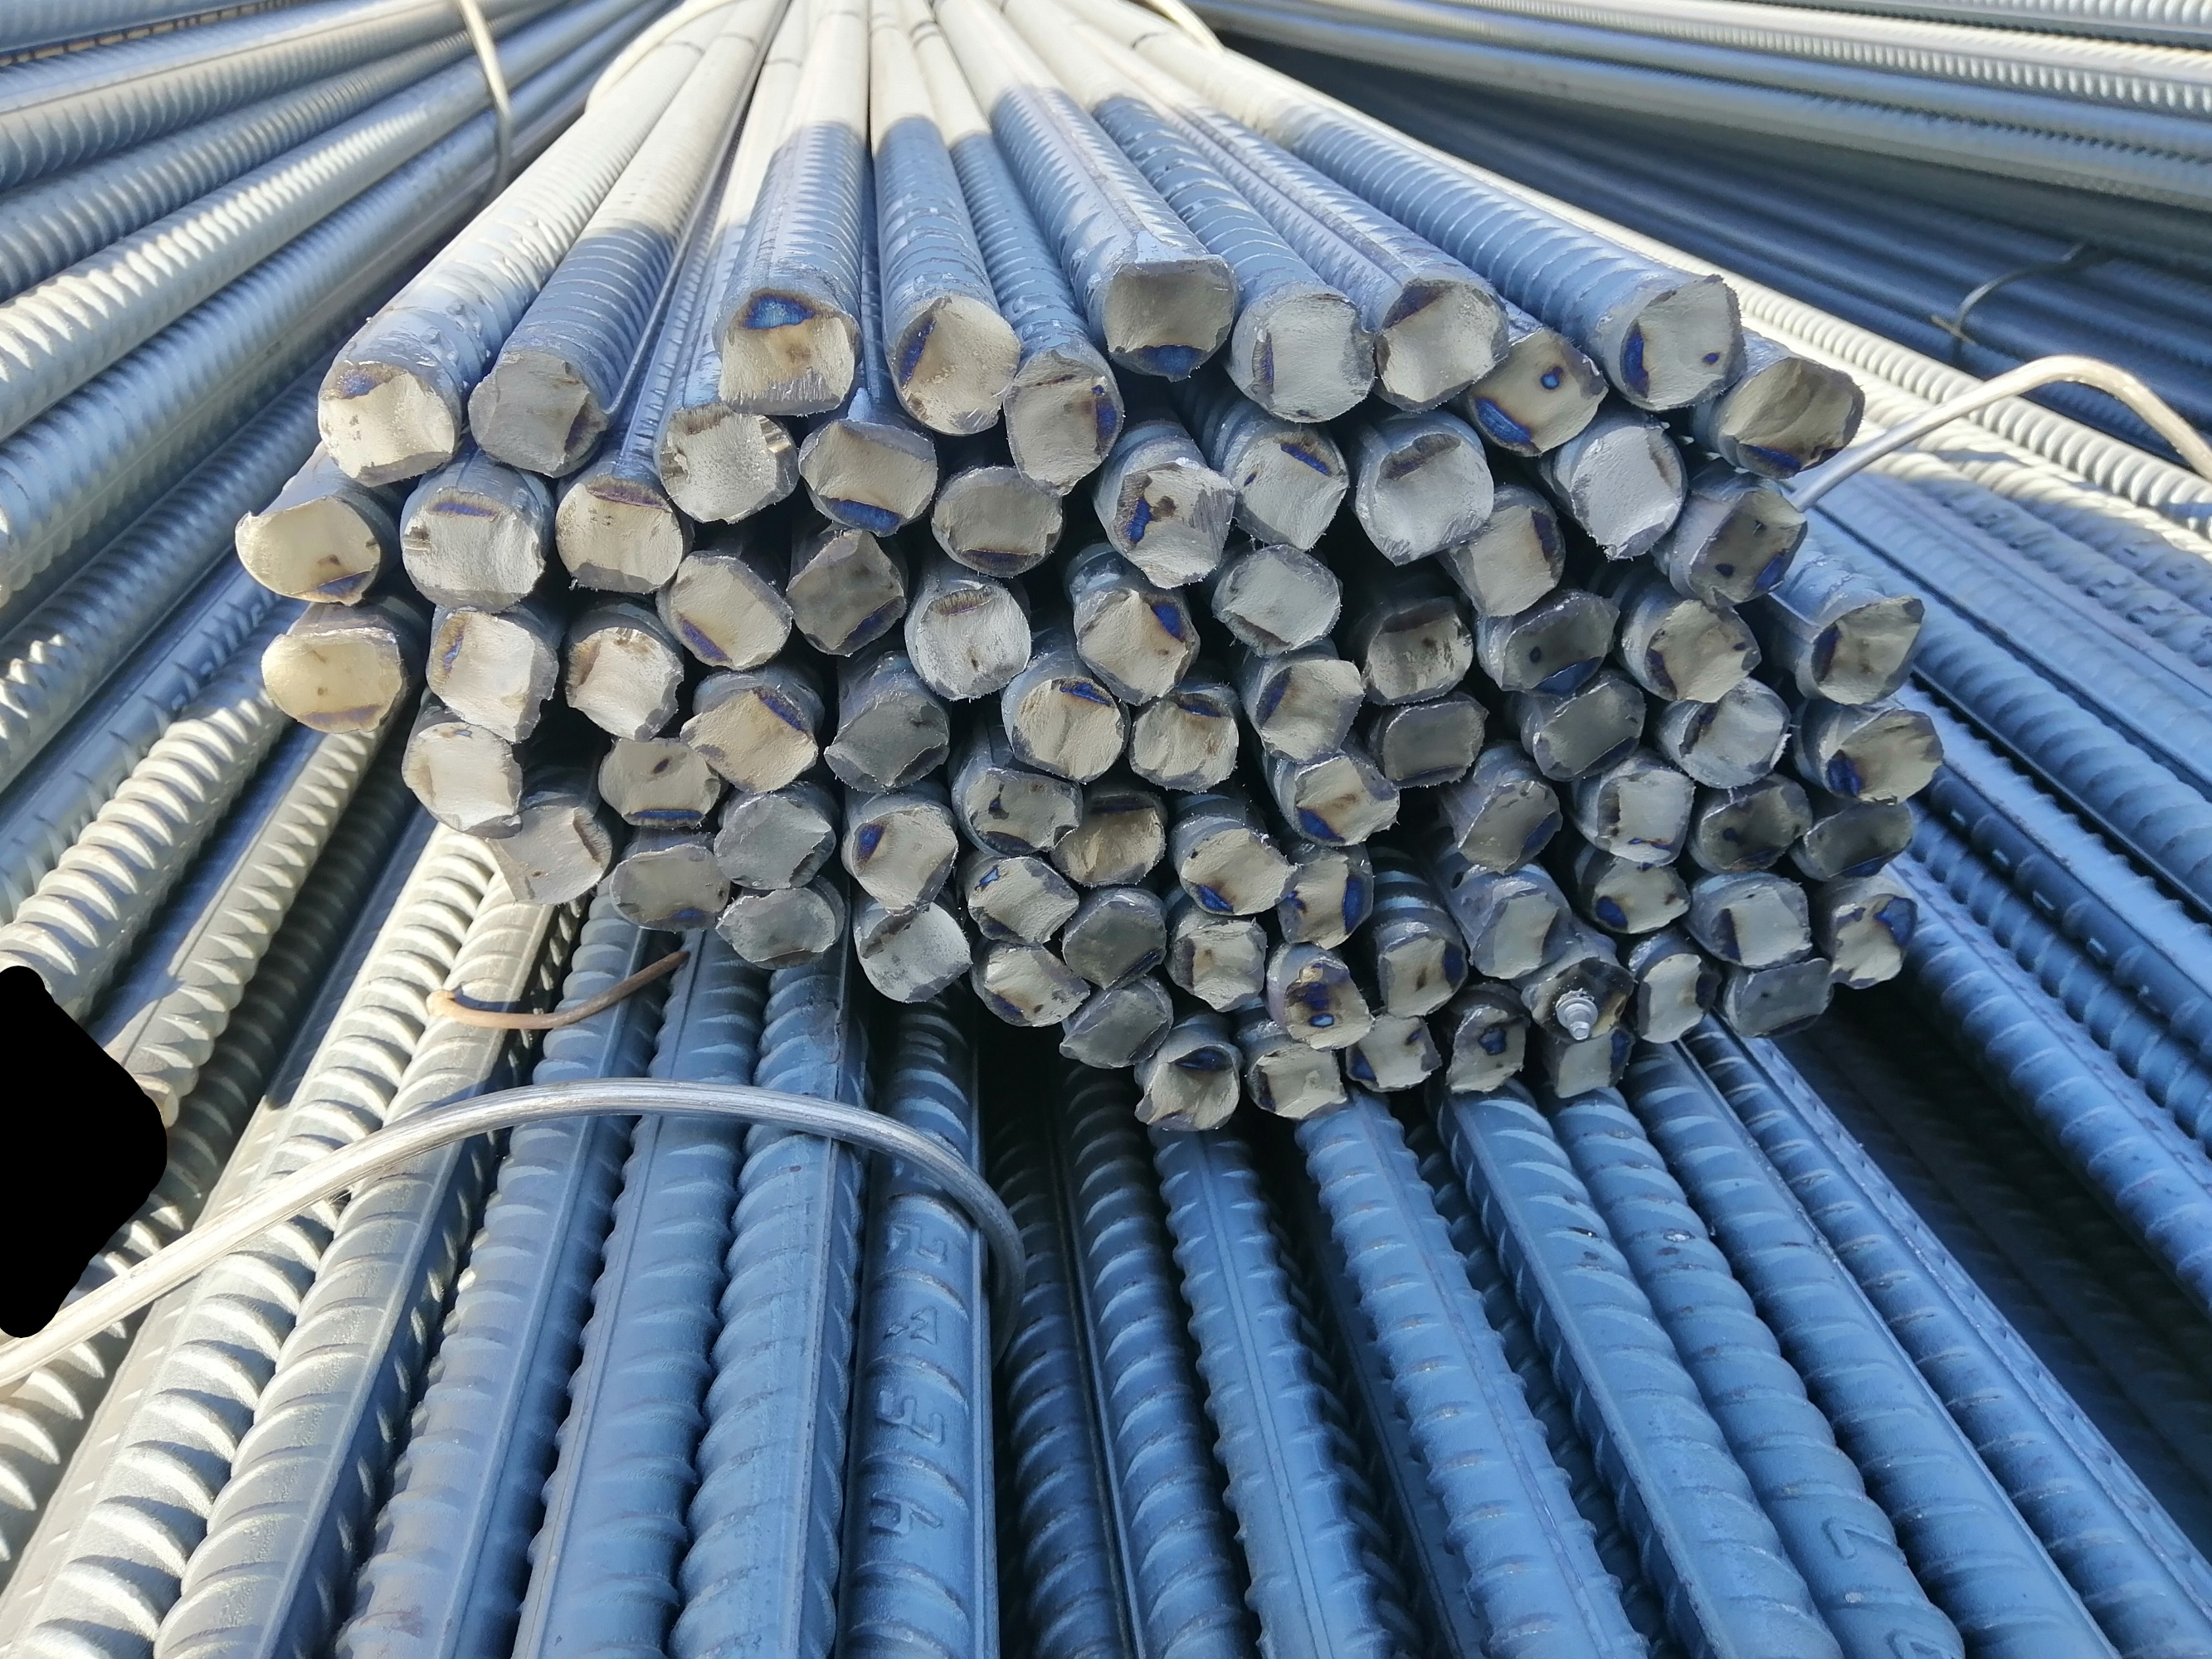rebar: (795, 403, 943, 544), (997, 345, 1124, 502), (1370, 270, 1510, 413), (420, 601, 560, 742), (316, 359, 465, 490), (394, 484, 547, 612), (1095, 251, 1239, 385), (1365, 427, 1499, 570), (1720, 352, 1869, 479), (464, 349, 607, 479), (249, 620, 406, 739), (716, 289, 859, 418), (892, 295, 1020, 437), (1105, 455, 1238, 591), (655, 399, 798, 525), (1616, 274, 1747, 410), (781, 521, 910, 657), (1250, 286, 1379, 422), (1476, 328, 1607, 458), (659, 549, 795, 674), (1567, 425, 1687, 565), (227, 497, 380, 605), (676, 678, 818, 795), (1215, 537, 1347, 660), (905, 582, 1035, 706), (1686, 477, 1809, 608), (556, 472, 683, 598), (1231, 422, 1353, 551), (931, 462, 1063, 579), (1806, 587, 1931, 709), (479, 800, 614, 911), (1520, 676, 1654, 786), (593, 727, 722, 838), (824, 685, 948, 800), (1243, 653, 1370, 765), (1077, 584, 1192, 706), (563, 617, 675, 742), (401, 725, 523, 836), (1455, 498, 1567, 620), (1642, 598, 1764, 708), (605, 836, 737, 938), (1822, 699, 1951, 802), (1009, 673, 1124, 788), (856, 896, 974, 1007), (852, 800, 964, 915), (713, 791, 835, 894), (1124, 687, 1239, 795), (1673, 685, 1794, 788), (959, 850, 1081, 950), (1267, 847, 1377, 955), (1363, 594, 1469, 706), (964, 756, 1081, 857), (1499, 592, 1616, 692), (971, 932, 1089, 1030), (1700, 781, 1816, 877), (1170, 903, 1271, 1011), (1591, 756, 1693, 864), (1290, 751, 1401, 849), (1178, 824, 1295, 917), (1462, 775, 1567, 877), (1469, 884, 1572, 985), (1062, 896, 1168, 993), (1065, 976, 1173, 1072), (722, 882, 840, 969), (1241, 1035, 1356, 1124), (1523, 955, 1637, 1044), (1703, 887, 1822, 971), (1137, 1042, 1239, 1136), (1056, 800, 1164, 889), (1382, 706, 1490, 795), (1802, 791, 1907, 882), (1827, 885, 1917, 990), (1724, 958, 1839, 1040), (1279, 951, 1374, 1051), (1442, 999, 1532, 1098), (1590, 850, 1691, 936), (1344, 1009, 1445, 1093), (1377, 927, 1468, 1019), (1633, 946, 1710, 1046), (1555, 1033, 1633, 1105)
